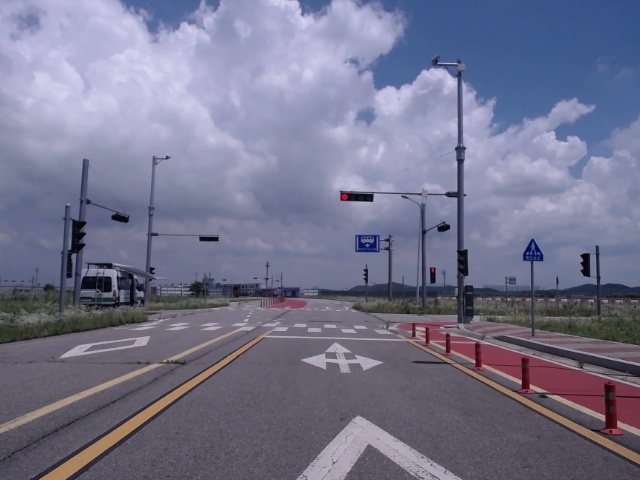red_4: (340, 192, 374, 202)
